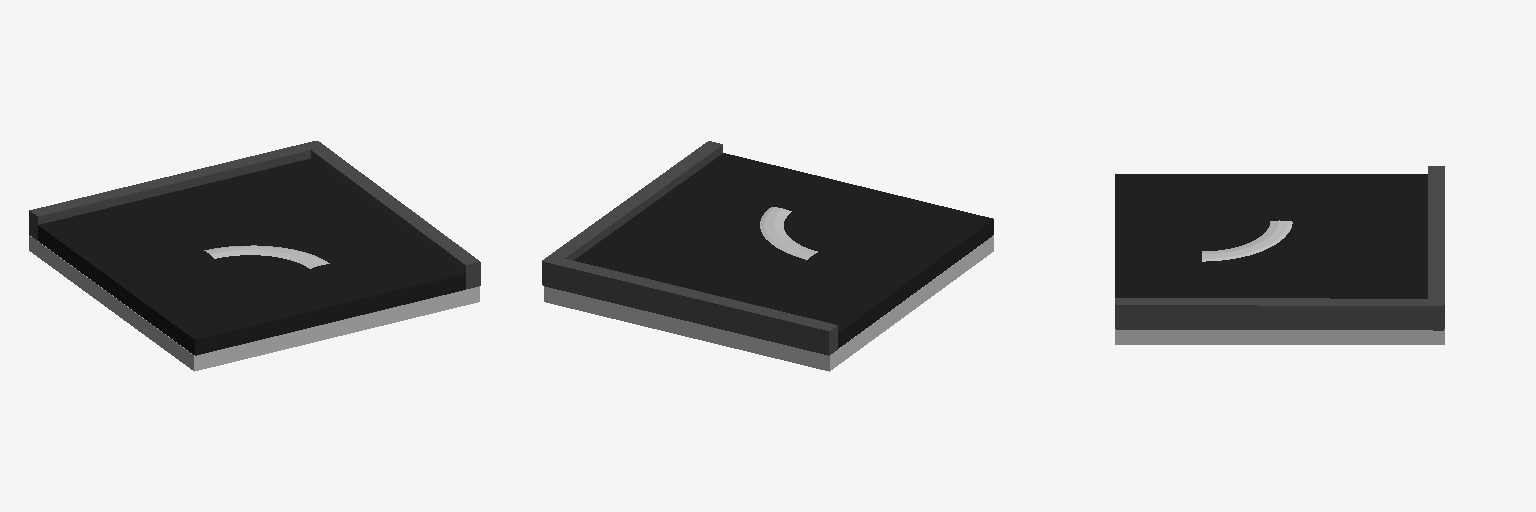
Rendered from road2new.obj.
The picture shows the model from 3 angles: view 1: azimuth 30°, elevation 25°; view 2: azimuth 150°, elevation 25°; view 3: azimuth 270°, elevation 25°; orthographic projection.
Parts seen in each view (by area): view 1: Cube; view 2: Cube; view 3: Cube.
Part boxes in pixels (left/top/right/bottom): Cube: left=29, top=141, right=480, bottom=371; Cube: left=542, top=141, right=993, bottom=371; Cube: left=1115, top=166, right=1444, bottom=344.
Bounding box in the file's own units: 2.02 × 0.2705 × 2.